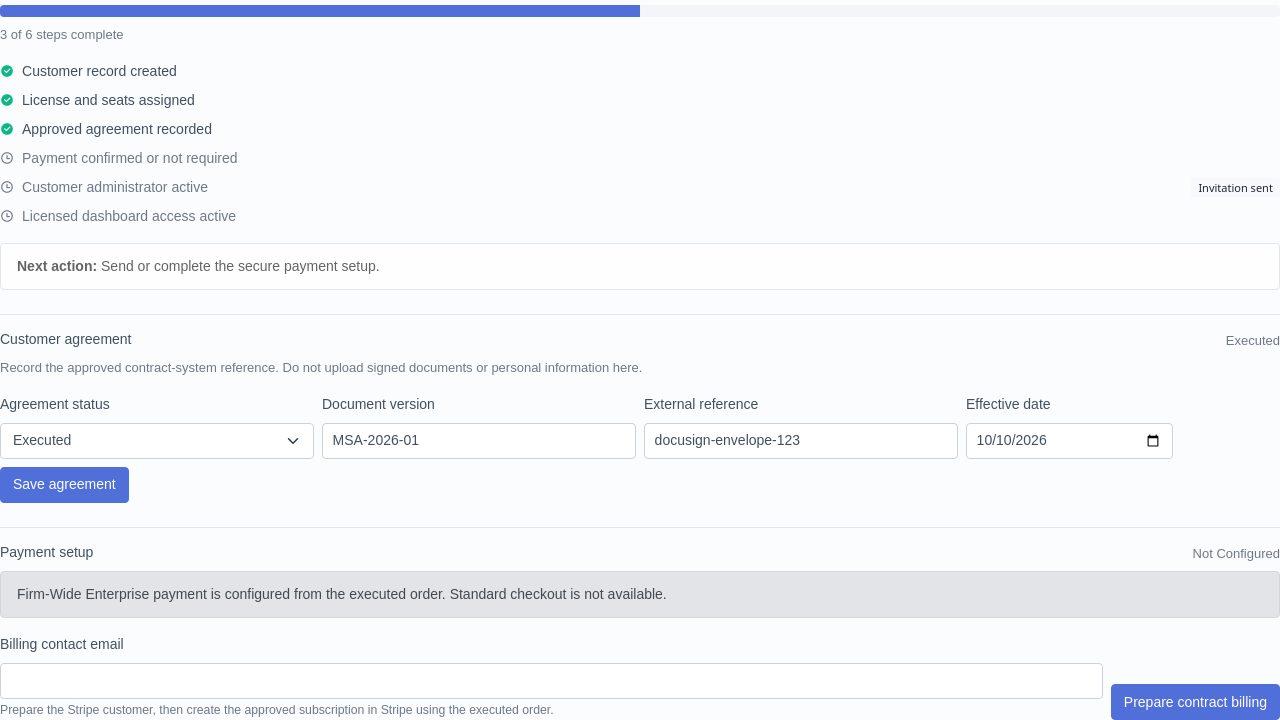
Test: CustomerOnboardingPanel › prepares a Stripe customer for contract-controlled billing
(page scrolled)
Type "BILLING@EXAMPLE.COM" into the field labelled "Billing contact email" at [551, 681], box [0,663,1103,699]
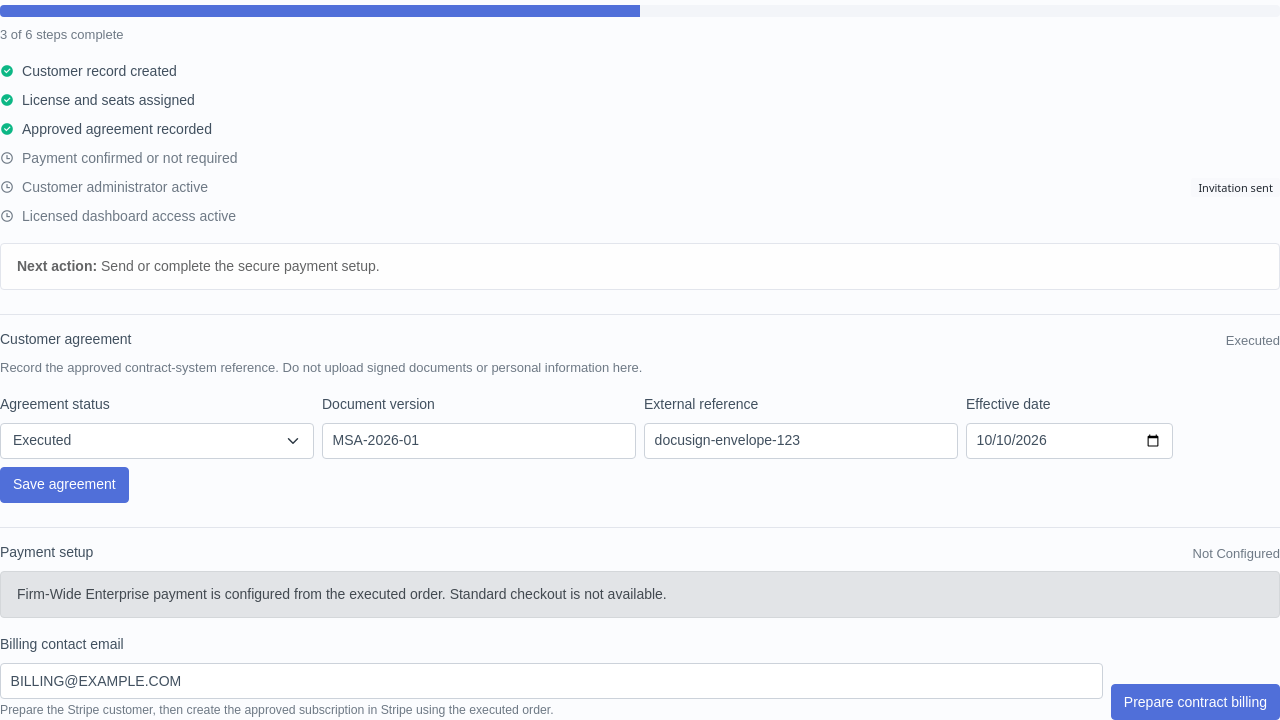
Click the button "Prepare contract billing" at [1195, 702], box [1111,684,1279,719]
(page scrolled)
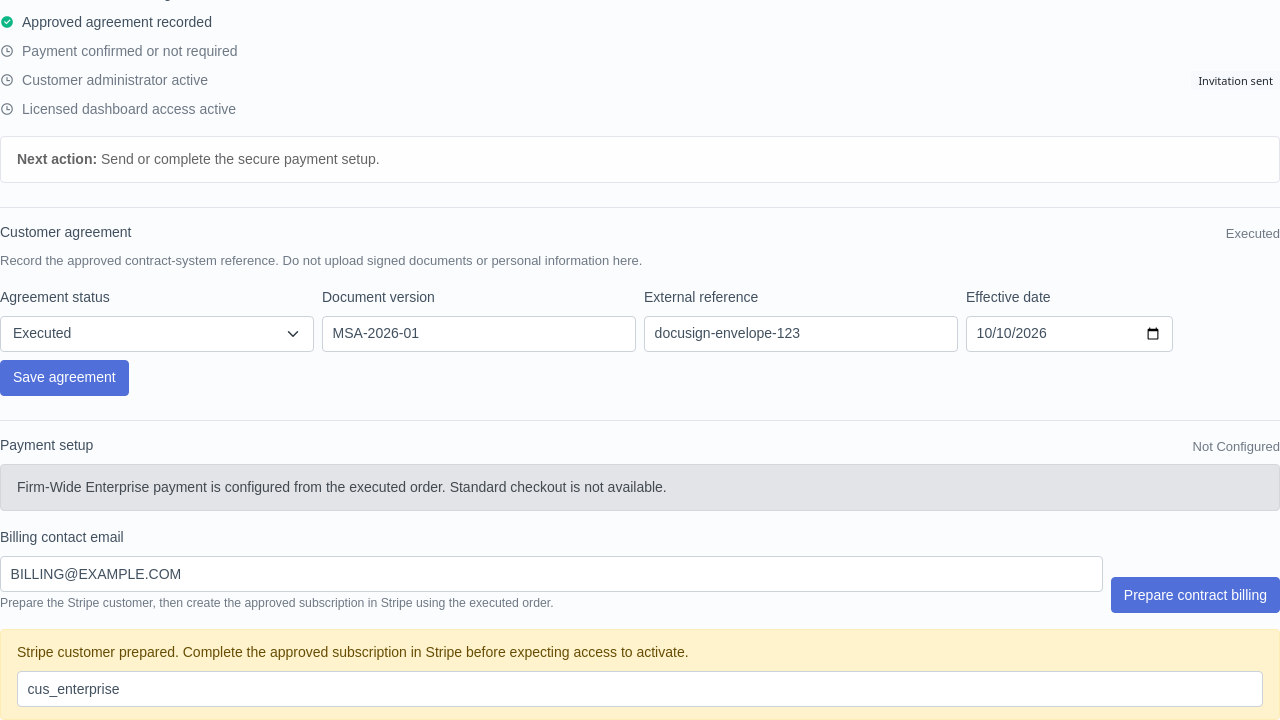
Result: the field named "Stripe customer reference" holds "cus_enterprise" at [17,671,1263,707]
